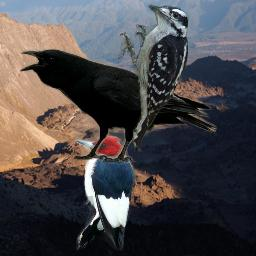Crow: (20, 49, 217, 164)
Woodpecker: (118, 3, 197, 152), (75, 132, 137, 253)
